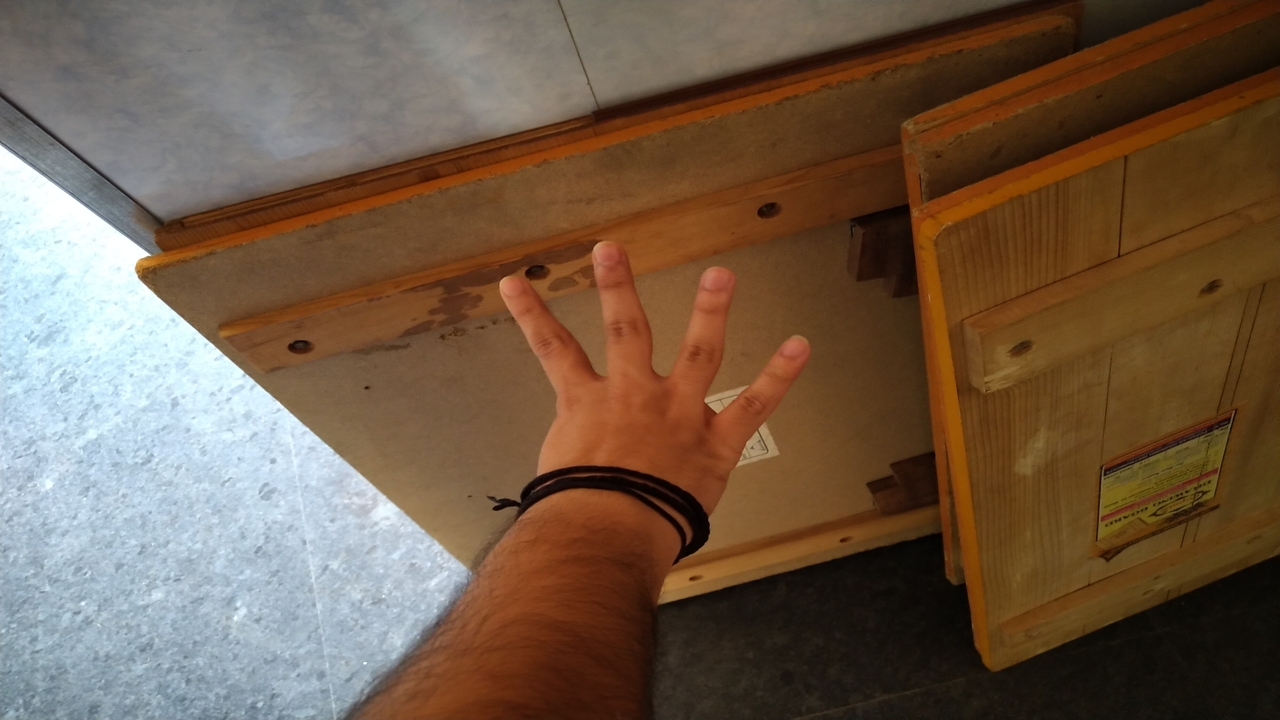fingertip: (760, 324, 822, 376), (578, 230, 642, 280), (688, 252, 744, 306), (490, 260, 550, 308)
